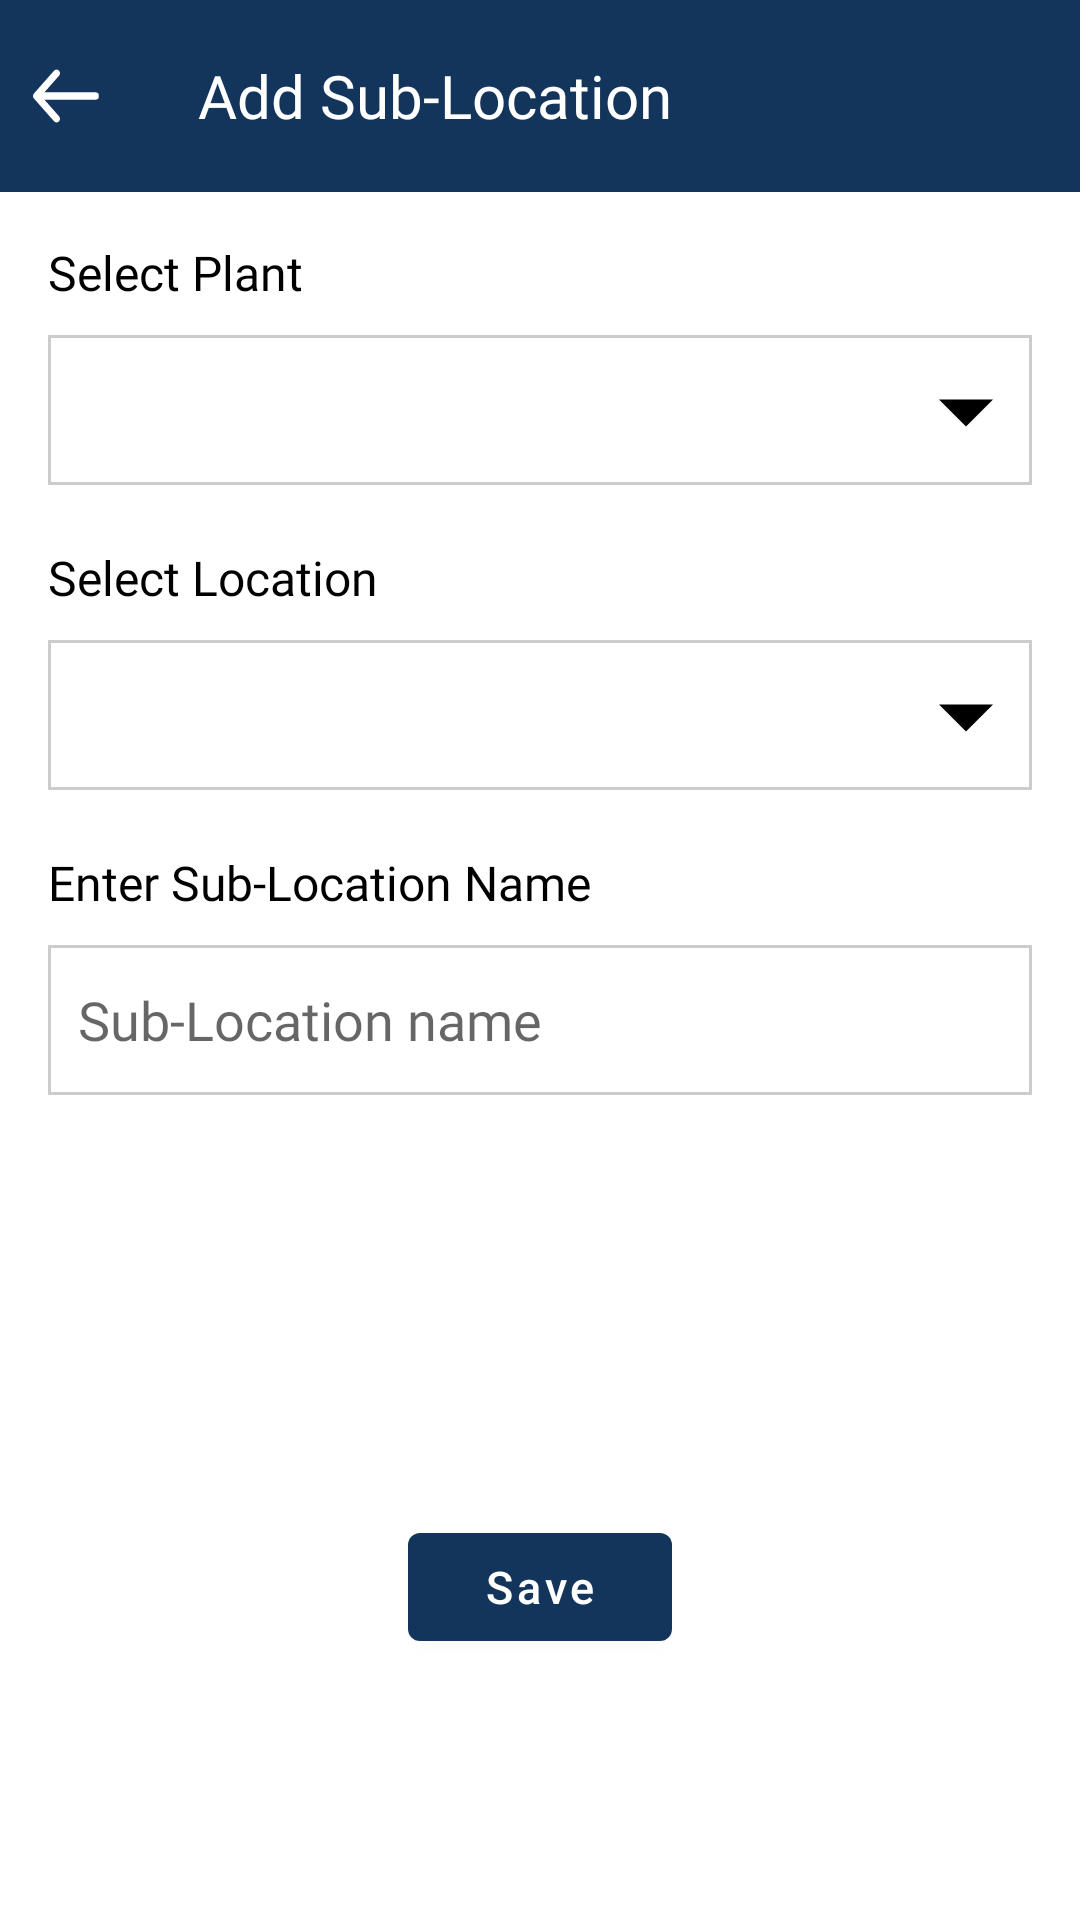

Locate icon controls on the screen. Image size 1080×1920, boxes as [left=x1, top=y1, right=x2, bottom=y2].
back: [left=33, top=69, right=99, bottom=123]
dropdown arrow: [left=939, top=399, right=993, bottom=427], [left=939, top=704, right=993, bottom=732]
